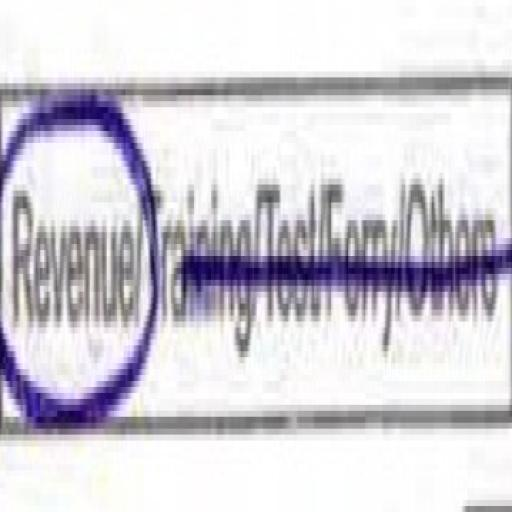check: (0, 14, 147, 458)
